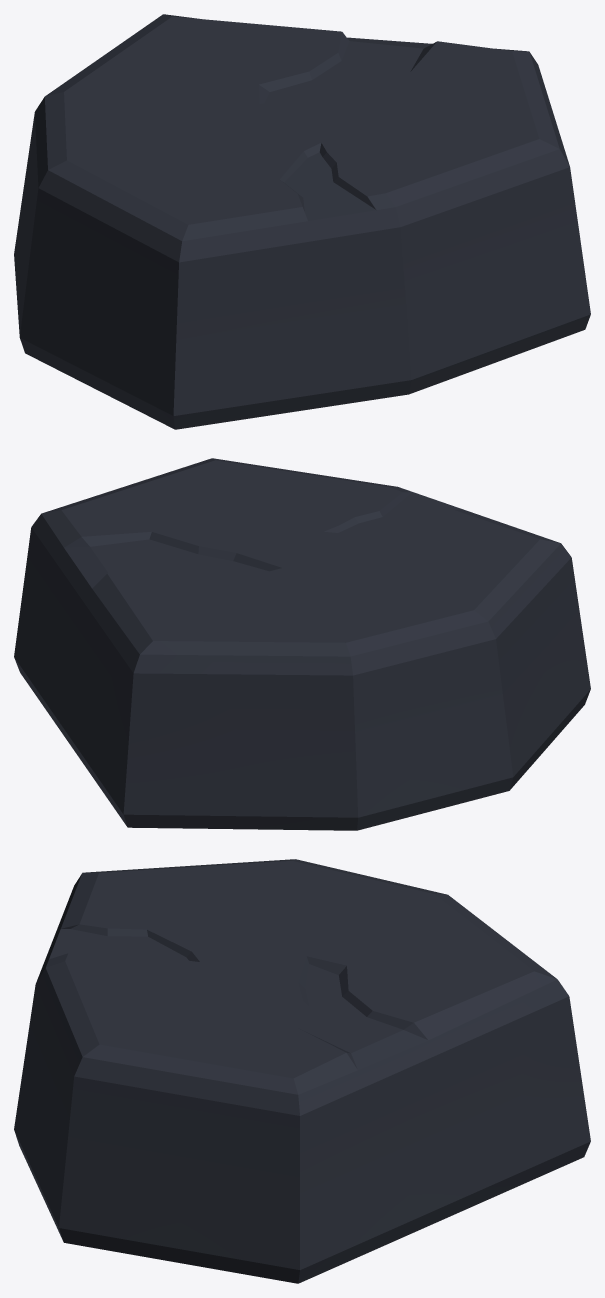
Rendered from SM_Rock1.fbx.
3 views of the same model, one above another, from view 1: azimuth 30°, elevation 25°; view 2: azimuth 150°, elevation 25°; view 3: azimuth 270°, elevation 25° (orthographic). The views are drawn at different scales.
Parts seen in each view (by area): view 1: SM_Rock1_Body; view 2: SM_Rock1_Body; view 3: SM_Rock1_Body.
Boxes of the visible parts, <box> form: SM_Rock1_Body: <box>14,14,590,429</box>; SM_Rock1_Body: <box>14,458,590,830</box>; SM_Rock1_Body: <box>14,859,590,1283</box>.
Bounding box in the file's own units: 181 × 62 × 167.
